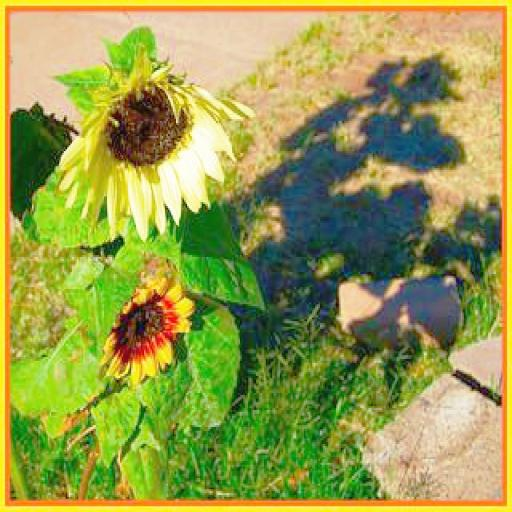sunflower: (61, 53, 254, 217), (104, 253, 192, 378)
